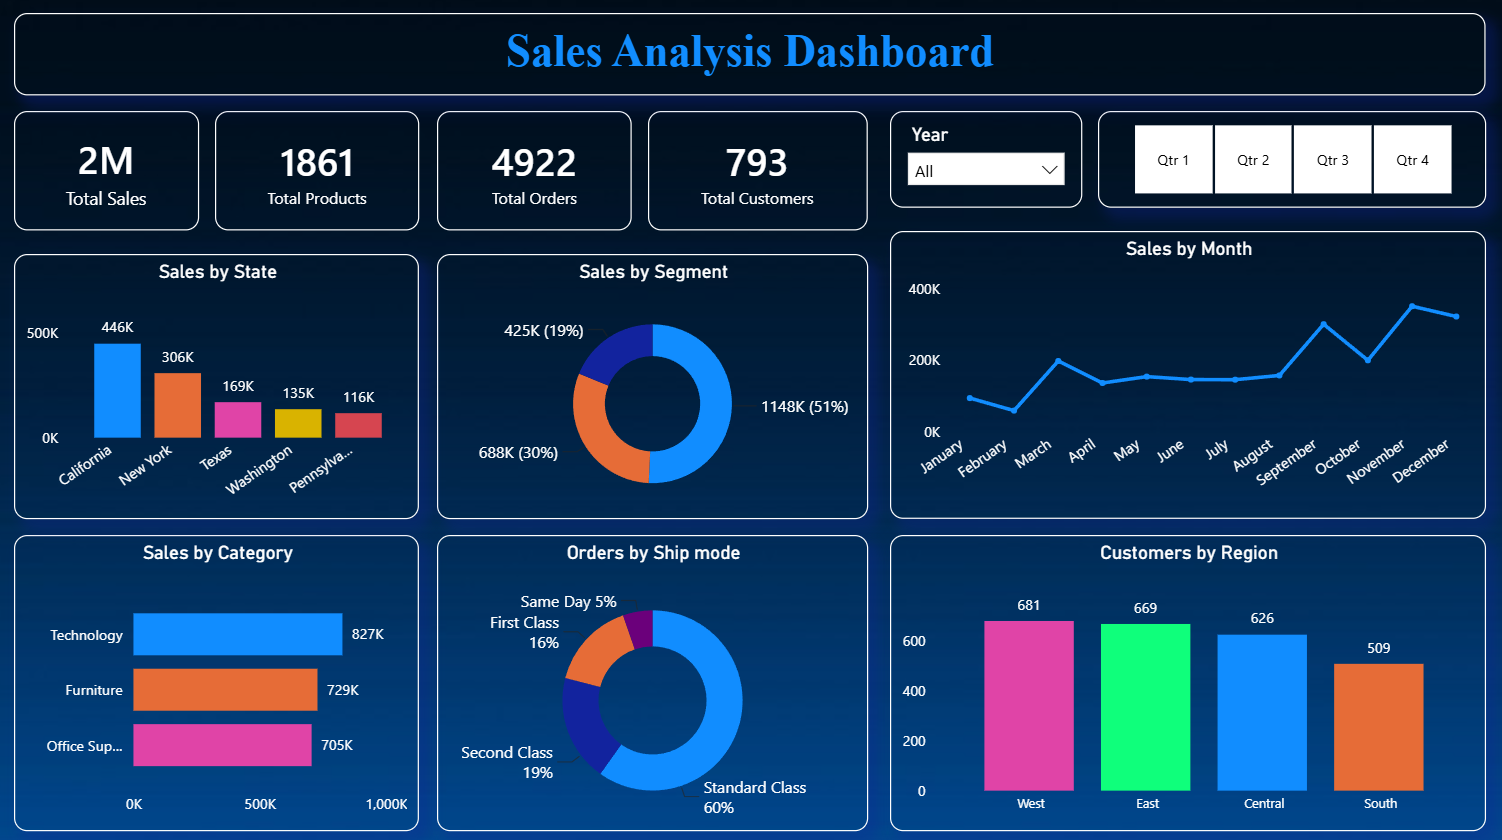

The page's visual inventory and layout, read from the dashboard file:
{"tool":"powerbi","page":{"name":"Page 1","canvas":[1280,720],"ordinal":0},"visuals":[{"type":"lineChart","title":"Sales by Month","fields":{"Category":["sales.Order Date.Variation.Date Hierarchy.Month"],"Y":["sales.Total Sales"]},"box":[756.7,202.3,499,241.2],"z":0},{"type":"clusteredBarChart","title":"Sales by Category","fields":{"Category":["sales.Category"],"Y":["sales.Total Sales"]},"box":[23.3,457.1,339.5,248],"z":1000},{"type":"donutChart","title":"Sales by Segment","fields":{"Category":["sales.Segment"],"Y":["sales.Total Sales"]},"box":[377.4,221.8,360.9,221.8],"z":2000},{"type":"clusteredColumnChart","title":"Sales by State","fields":{"Y":["sales.Total Sales"],"Category":["sales.State"]},"box":[23.3,221.8,339.5,221.8],"z":3000},{"type":"cardVisual","fields":{"Data":["sales.Total Sales"]},"box":[23.3,102.1,154.7,100.2],"z":4000},{"type":"cardVisual","fields":{"Data":["sales.Total Products"]},"box":[191.6,102.1,171.2,100.2],"z":5000},{"type":"cardVisual","fields":{"Data":["sales.Total Orders"]},"box":[377.4,102.1,163.4,100.2],"z":6000},{"type":"cardVisual","fields":{"Data":["sales.Total Customers"]},"box":[554.4,102.1,183.8,100.2],"z":7000},{"type":"slicer","fields":{"Values":["sales.Order Date.Variation.Date Hierarchy.Year"]},"box":[756.7,102.1,161.5,80.7],"z":8000},{"type":"slicer","fields":{"Values":["sales.Order Date.Variation.Date Hierarchy.Quarter"]},"box":[930.8,102.1,324.9,80.7],"z":9000},{"type":"donutChart","title":"Orders by Ship mode","fields":{"Y":["sales.Total Orders"],"Category":["sales.Ship Mode"]},"box":[377.4,457.1,360.9,248],"z":10000},{"type":"clusteredColumnChart","title":"Customers by Region","fields":{"Category":["sales.Region"],"Y":["sales.Total Customers"]},"box":[756.7,457.1,499,248],"z":11000},{"type":"textbox","box":[23.3,20.4,1232.3,69.1],"z":12000}]}

Visuals, with their boxes in screenshot pixels (x1, y1, x2, y2), scaled from the page's 1280x720 canvas onto the 1502x840 screenshot:
"Sales by Month" lineChart: [x1=888, y1=236, x2=1473, y2=517]
"Sales by Category" clusteredBarChart: [x1=27, y1=533, x2=426, y2=823]
"Sales by Segment" donutChart: [x1=443, y1=259, x2=866, y2=518]
"Sales by State" clusteredColumnChart: [x1=27, y1=259, x2=426, y2=518]
cardVisual - sales.Total Sales: [x1=27, y1=119, x2=209, y2=236]
cardVisual - sales.Total Products: [x1=225, y1=119, x2=426, y2=236]
cardVisual - sales.Total Orders: [x1=443, y1=119, x2=635, y2=236]
cardVisual - sales.Total Customers: [x1=651, y1=119, x2=866, y2=236]
slicer - sales.Order Date.Variation.Date Hierarchy.Year: [x1=888, y1=119, x2=1077, y2=213]
slicer - sales.Order Date.Variation.Date Hierarchy.Quarter: [x1=1092, y1=119, x2=1473, y2=213]
"Orders by Ship mode" donutChart: [x1=443, y1=533, x2=866, y2=823]
"Customers by Region" clusteredColumnChart: [x1=888, y1=533, x2=1473, y2=823]
textbox: [x1=27, y1=24, x2=1473, y2=104]
